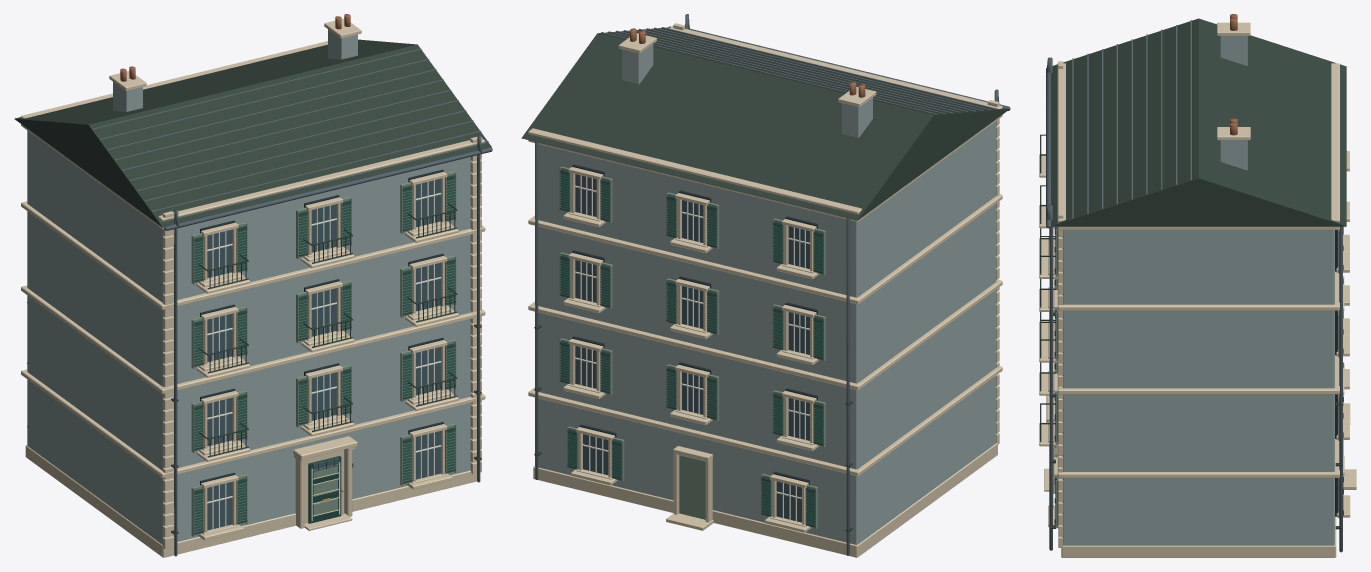
Rendered from apartment_three.glb.
3 renders of one model, left to right at view 1: azimuth 30°, elevation 25°; view 2: azimuth 150°, elevation 25°; view 3: azimuth 270°, elevation 25°, orthographic. The views are drawn at different scales.
Parts seen in each view (by area): view 1: Building_masonry, Pitched_slate_roof, Stone_plinth, Continuous_cornice.004, Continuous_cornice.002, Continuous_cornice.001, Continuous_cornice, Zinc_gutter, Rainwater_downpipe, Rainwater_downpipe.001, Entry_door, Window_glass.004 (+25 smaller); view 2: Building_masonry, Pitched_slate_roof, Stone_plinth, Continuous_cornice.004, Continuous_cornice.002, Continuous_cornice.001, Continuous_cornice, Garden_entry_door, Rear_downpipe.001, Rear_downpipe, Continuous_cornice.003, Chimney_stack.001 (+18 smaller); view 3: Building_masonry, Pitched_slate_roof, Stone_plinth, Continuous_cornice.004, Continuous_cornice.001, Continuous_cornice.002, Continuous_cornice, Rainwater_downpipe.001, Rear_downpipe.001, Continuous_cornice.003, Chimney_stack.001, Chimney_stack (+3 smaller).
Boxes of the visible parts, x1,y1,x2,y2 form: Building_masonry: (27, 130, 471, 544); Pitched_slate_roof: (14, 39, 491, 227); Stone_plinth: (25, 445, 476, 557); Continuous_cornice.004: (21, 41, 485, 221); Continuous_cornice.002: (21, 201, 485, 309); Continuous_cornice.001: (21, 285, 485, 393); Continuous_cornice: (21, 369, 485, 477); Zinc_gutter: (164, 147, 492, 230); Rainwater_downpipe: (174, 209, 178, 556); Rainwater_downpipe.001: (477, 135, 481, 482); Entry_door: (308, 456, 341, 523); Window_glass.004: (311, 372, 336, 420); Building_masonry: (535, 121, 996, 544); Pitched_slate_roof: (521, 27, 1009, 220); Stone_plinth: (533, 443, 997, 557); Continuous_cornice.004: (528, 26, 1002, 214); Continuous_cornice.002: (528, 194, 1002, 304); Continuous_cornice.001: (528, 280, 1002, 390); Continuous_cornice: (528, 366, 1002, 476); Garden_entry_door: (679, 455, 705, 519); Rear_downpipe.001: (535, 142, 538, 479); Rear_downpipe: (846, 218, 849, 555); Continuous_cornice.003: (528, 115, 1002, 221); Chimney_stack.001: (622, 44, 653, 84); Building_masonry: (1062, 230, 1334, 545); Pitched_slate_roof: (1051, 18, 1346, 226); Stone_plinth: (1061, 516, 1336, 557); Continuous_cornice.004: (1057, 63, 1339, 222); Continuous_cornice.001: (1057, 355, 1339, 394); Continuous_cornice.002: (1057, 271, 1339, 310); Continuous_cornice: (1057, 439, 1339, 477); Rainwater_downpipe.001: (1046, 204, 1053, 550); Rear_downpipe.001: (1339, 226, 1342, 552); Continuous_cornice.003: (1057, 226, 1339, 229); Chimney_stack.001: (1219, 140, 1247, 170); Chimney_stack: (1219, 36, 1247, 65).
Bounding box in the file's own units: 12.5 × 15 × 10.49.
